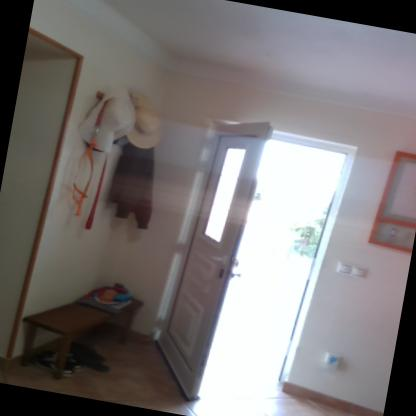semi: (150, 97, 388, 415)
